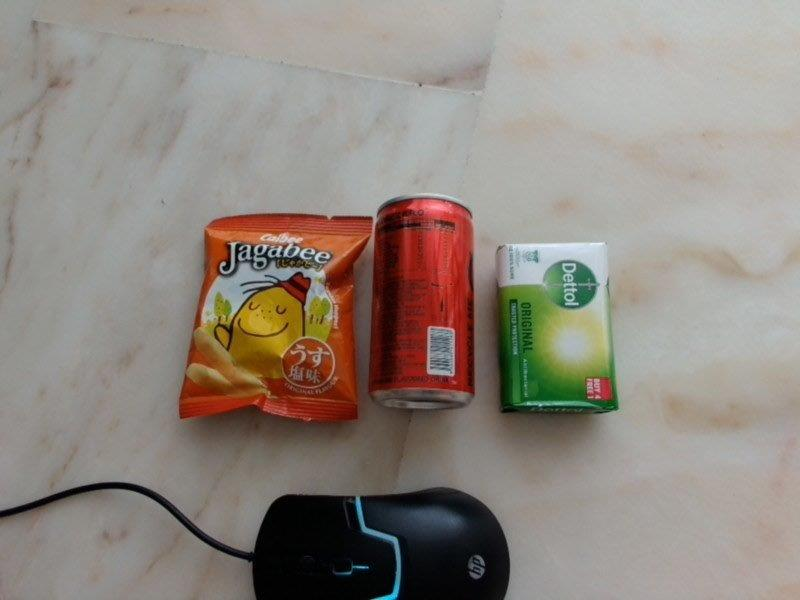Coke: (370, 191, 477, 415)
Dettol: (496, 241, 620, 416)
Jagabee: (178, 218, 372, 423)
